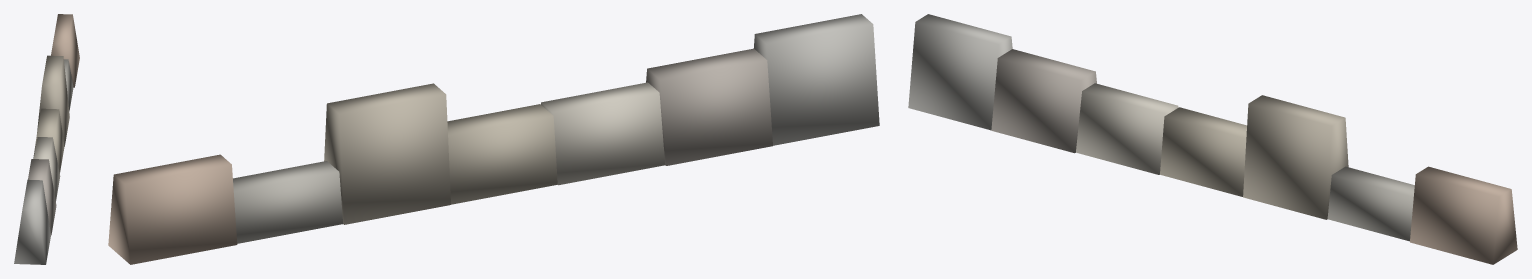
Rendered from farm_9_9_collision.glb.
The picture shows the model from 3 angles, left to right: view 1: azimuth 30°, elevation 25°; view 2: azimuth 150°, elevation 25°; view 3: azimuth 270°, elevation 25°; orthographic projection. The views are drawn at different scales.
Parts seen in each view (by area): view 1: geometry_0; view 2: geometry_0; view 3: geometry_0.
Part boxes in pixels (box(x1,y1,x2,y2)): geometry_0: box(14, 14, 79, 264); geometry_0: box(108, 14, 879, 264); geometry_0: box(908, 14, 1517, 264).
Size of the model in its own units: 6.55 by 1.63 by 9.17.
